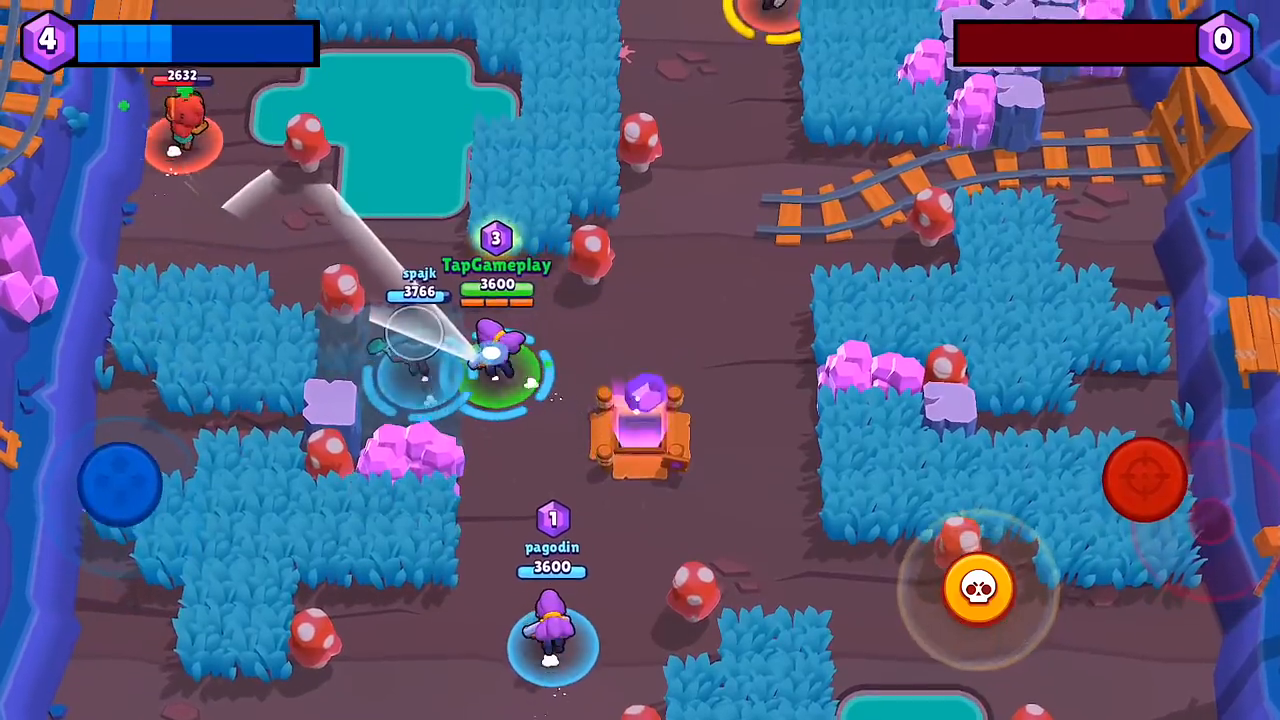move_stick: (86, 444, 159, 512)
red: (146, 76, 233, 170), (716, 1, 804, 49)
